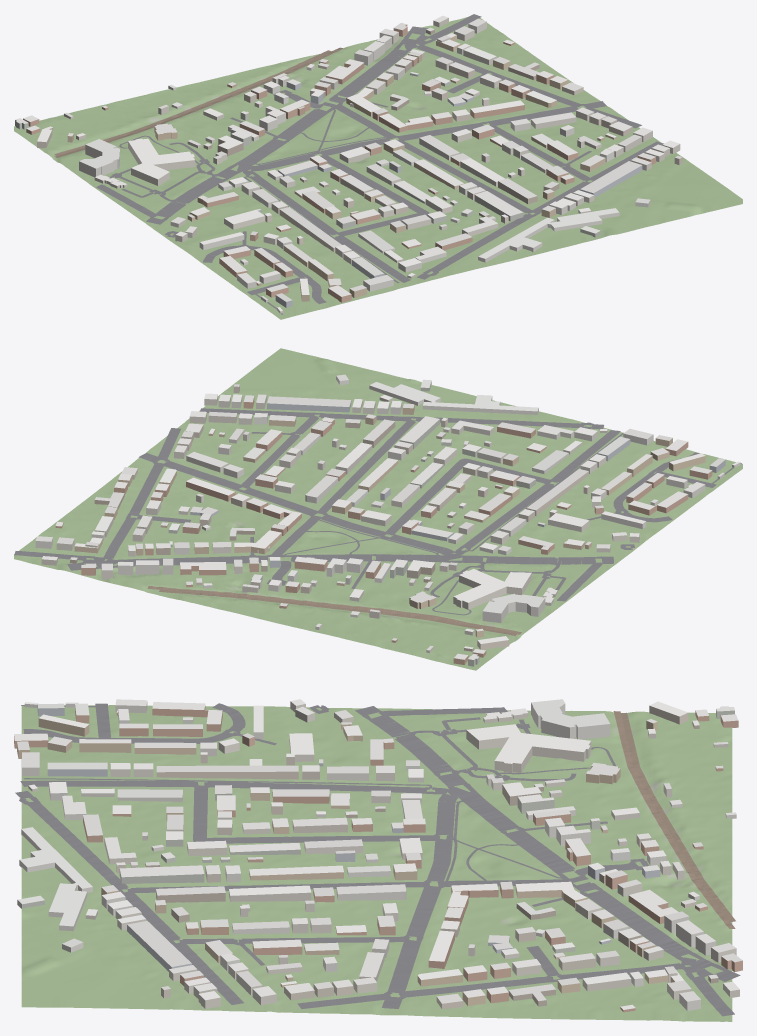
3 views of the same model, one above another, from view 1: azimuth 30°, elevation 25°; view 2: azimuth 150°, elevation 25°; view 3: azimuth 270°, elevation 25° (orthographic). The views are drawn at different scales.
Visible parts, largest first — view 1: prim0, prim1, prim2, prim3; view 2: prim0, prim1, prim2, prim3; view 3: prim0, prim1, prim2, prim3.
Boxes of the visible parts, x1=… form: prim0: x1=14, y1=16, x2=742, y2=319; prim1: x1=15, y1=15, x2=682, y2=313; prim2: x1=96, y1=14, x2=663, y2=314; prim3: x1=54, y1=47, x2=343, y2=157; prim0: x1=14, y1=348, x2=742, y2=670; prim1: x1=35, y1=374, x2=740, y2=666; prim2: x1=14, y1=408, x2=741, y2=615; prim3: x1=147, y1=586, x2=521, y2=635; prim0: x1=21, y1=705, x2=732, y2=1021; prim1: x1=14, y1=699, x2=742, y2=1012; prim2: x1=15, y1=703, x2=740, y2=1016; prim3: x1=613, y1=711, x2=735, y2=928.
Size of the model in its own units: 525 by 23.81 by 525.
